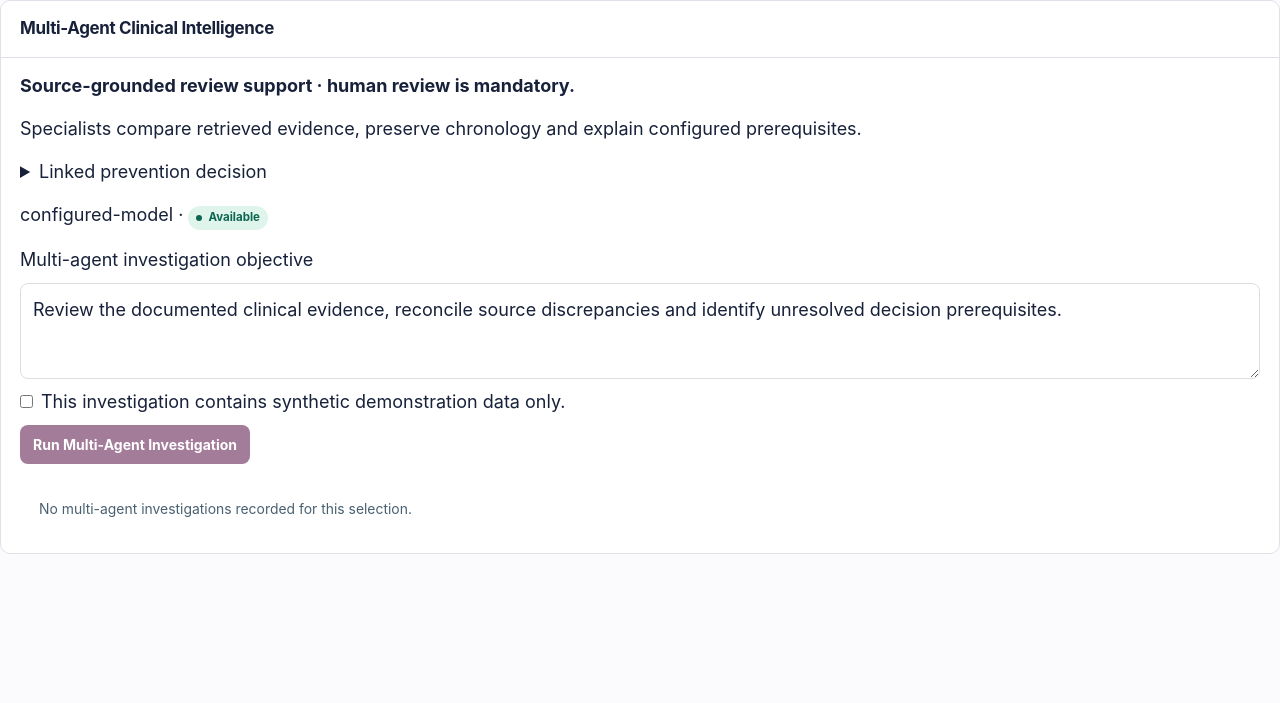
it: starts only an attested backend-scoped investigation with a linked decision
Expected: the text "configured-model · Available" is shown, [20,204,268,230]
Expected: the button "Run Multi-Agent Investigation" is disabled, [20,425,250,464]
Click the checkbox: click(26, 402) [20,395,33,408]
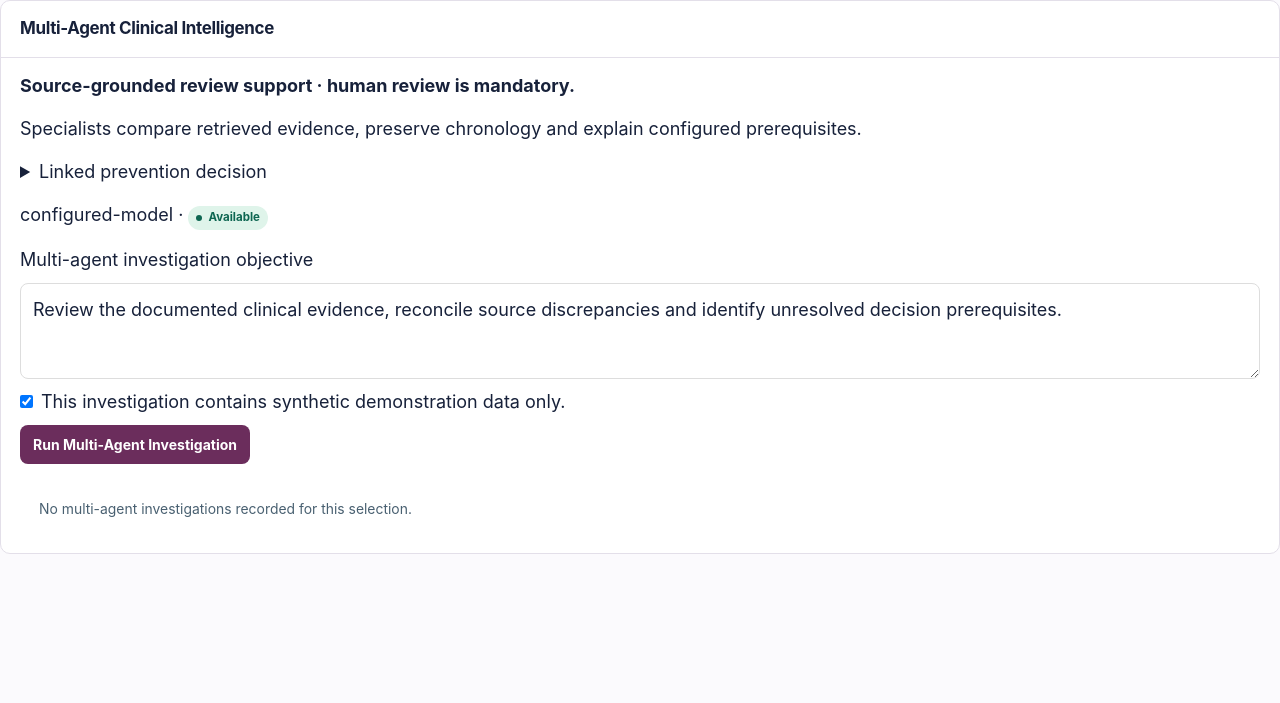
Click the button "Run Multi-Agent Investigation": click(135, 444) [20,425,250,464]
(page scrolled)
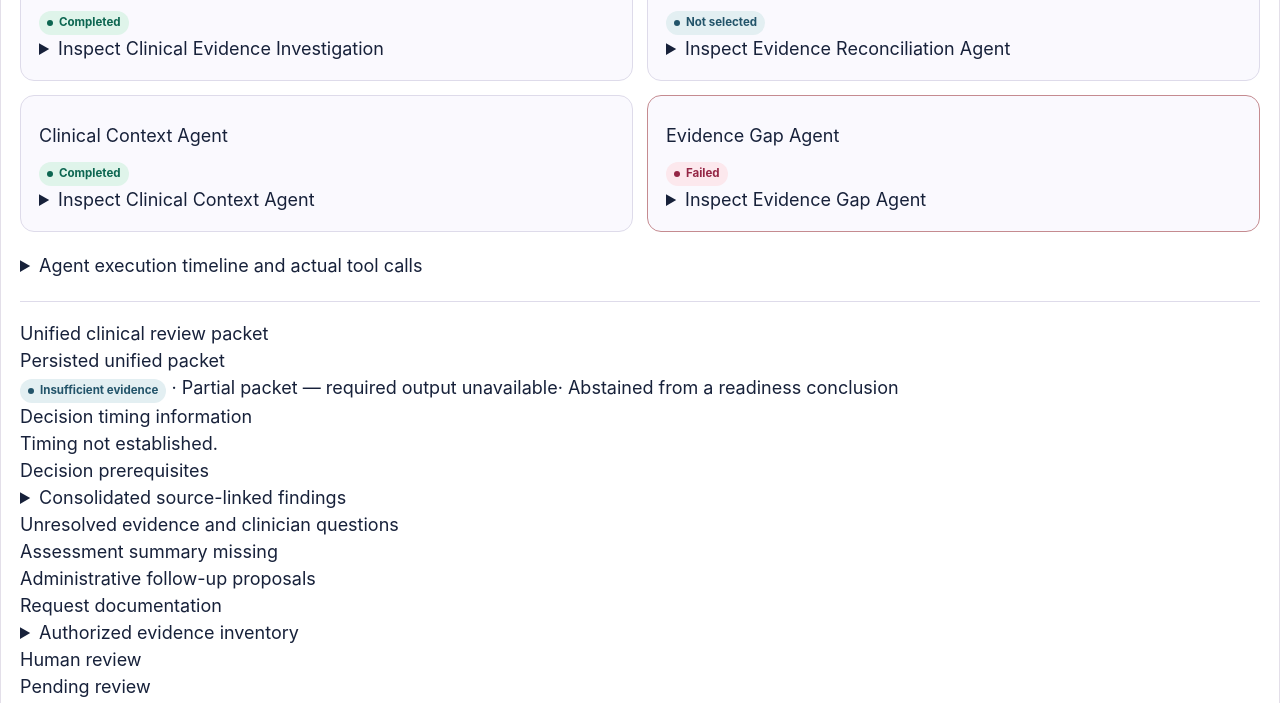
Expected: the text "Persisted unified packet" is shown, [20,350,225,370]
